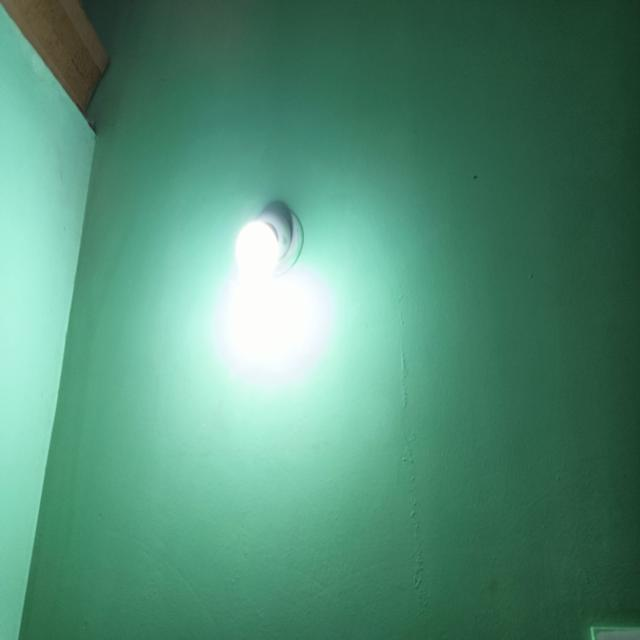bulb_on: (232, 218, 278, 281)
